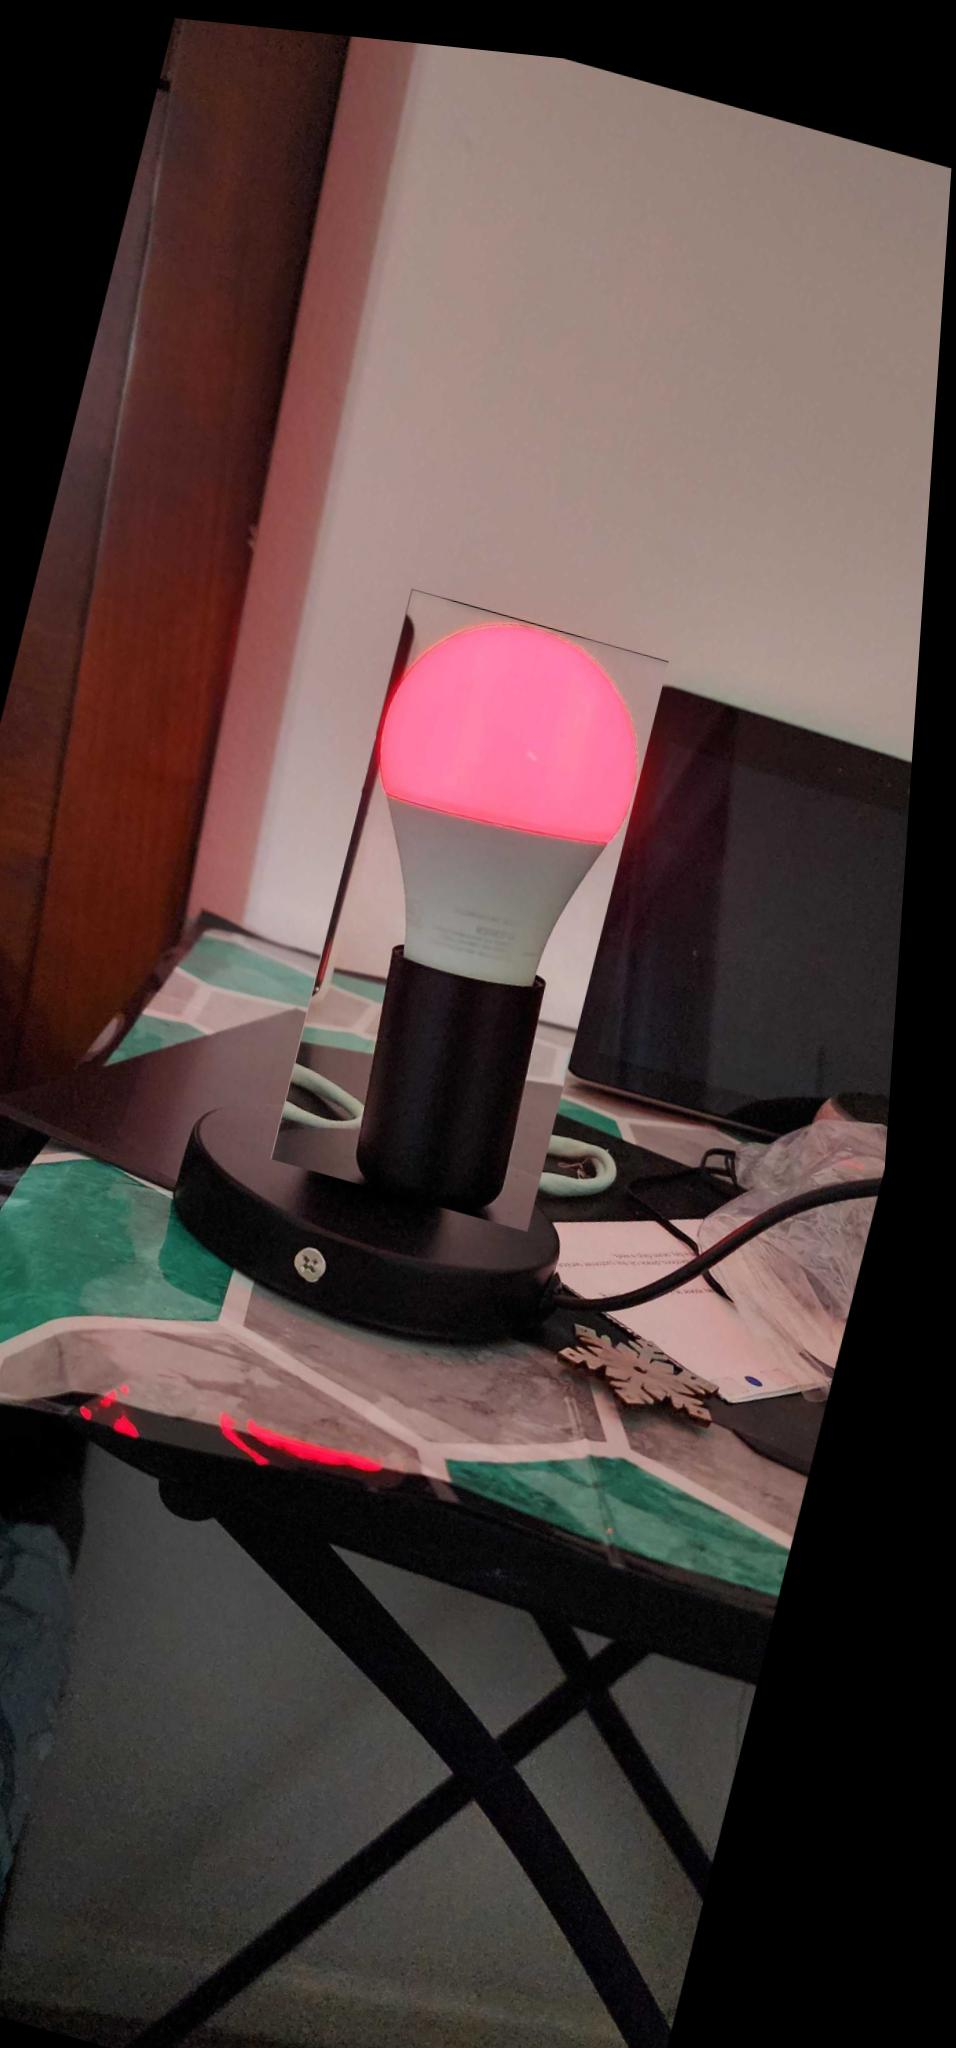TubeLight: (283, 569, 678, 1225)
